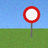sign: (23, 6, 40, 37)
